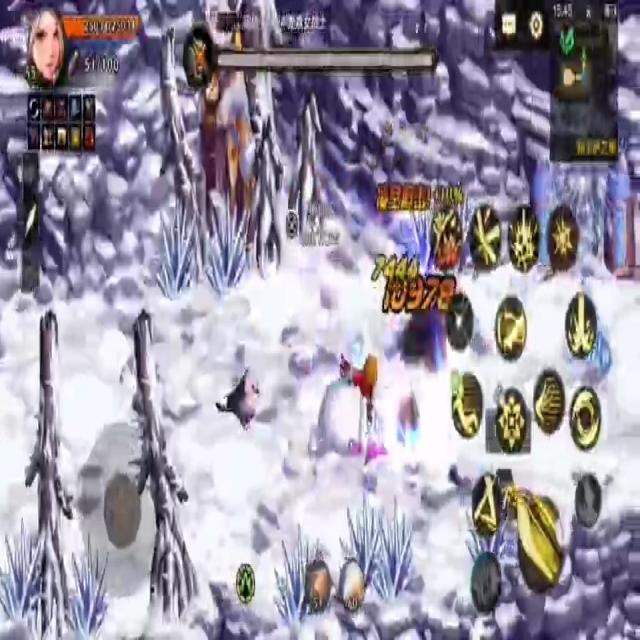player: (306, 344, 383, 464)
